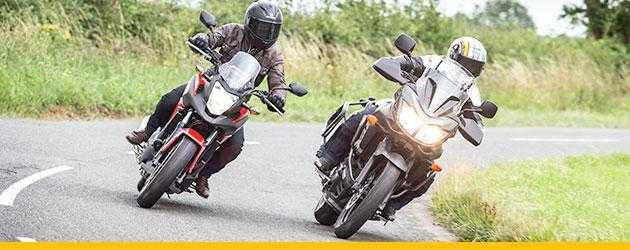motorbike: (315, 32, 497, 239), (133, 9, 308, 209)
